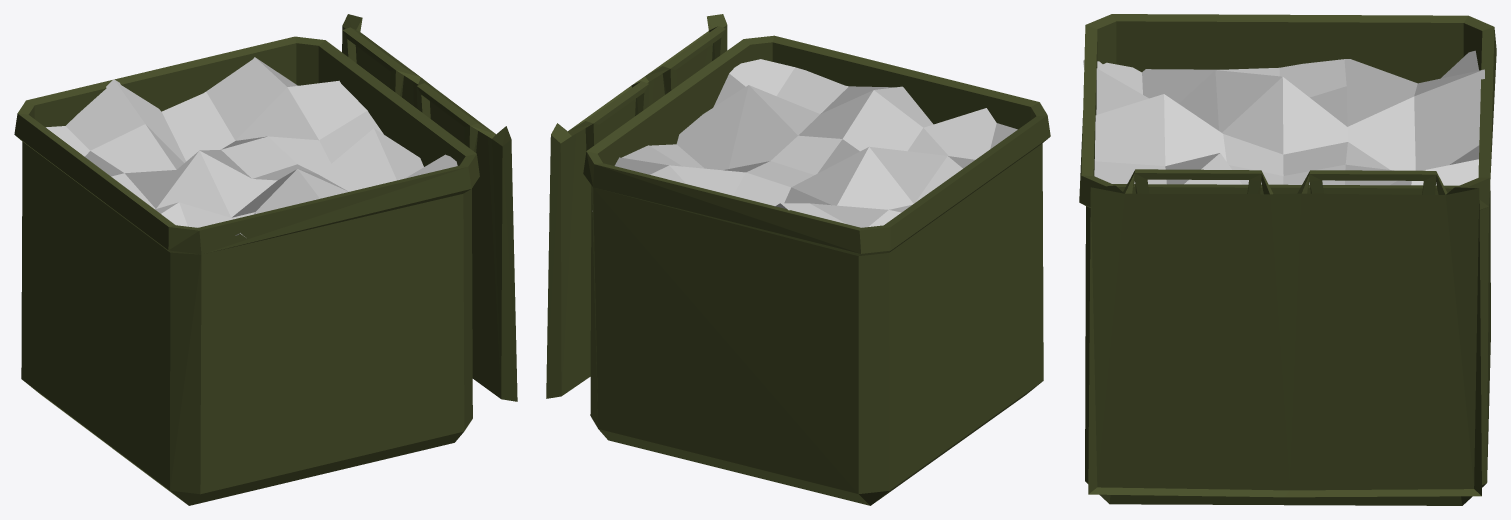
The model's file is model_Kosz_duzy_pelny.fbx.
3 renders of one model, left to right at view 1: azimuth 30°, elevation 25°; view 2: azimuth 150°, elevation 25°; view 3: azimuth 270°, elevation 25°, orthographic. The views are drawn at different scales.
Parts seen in each view (by area): view 1: kosz_otwarty_pelny; view 2: kosz_otwarty_pelny; view 3: kosz_otwarty_pelny.
Boxes of the visible parts, box(x1,y1,x2,y2) form: kosz_otwarty_pelny: box(14, 14, 517, 505); kosz_otwarty_pelny: box(546, 14, 1050, 505); kosz_otwarty_pelny: box(1079, 14, 1496, 505).
Size of the model in its own units: 130 by 121 by 143.
